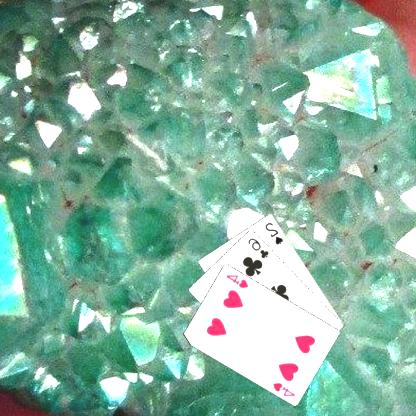2S: (264, 219, 286, 245)
4H: (272, 379, 298, 398), (226, 272, 252, 290)
6C: (247, 235, 272, 260)
